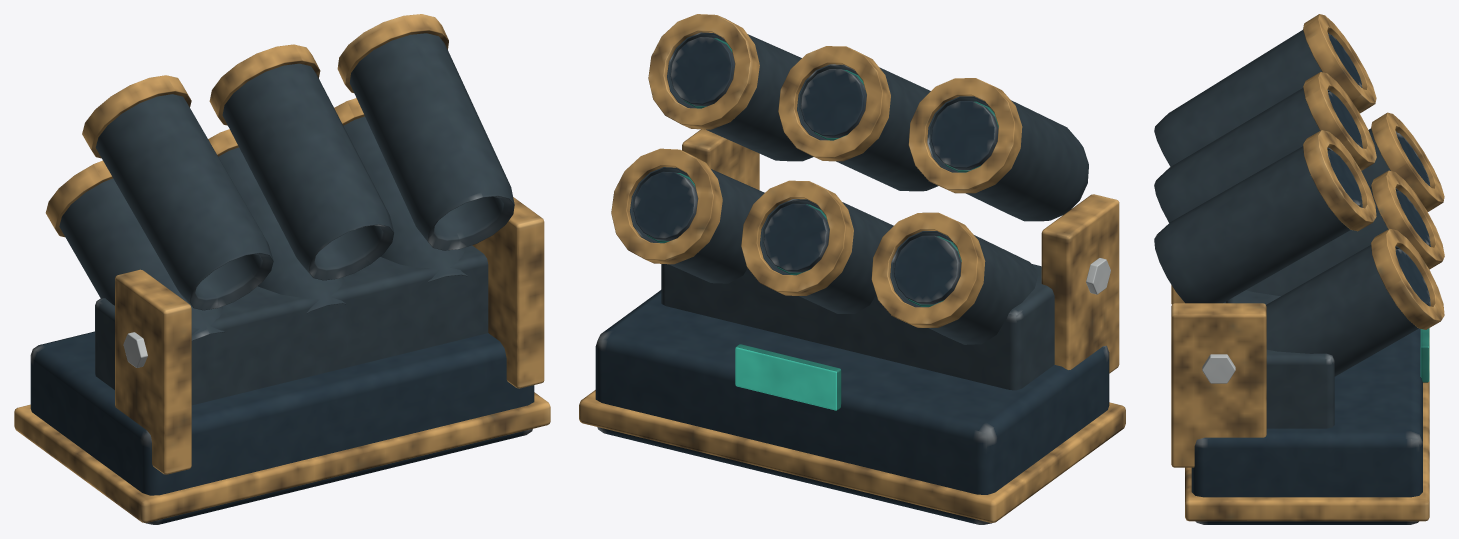
The model's file is smoke_launcher.glb.
3 renders of one model, left to right at view 1: azimuth 30°, elevation 25°; view 2: azimuth 150°, elevation 25°; view 3: azimuth 270°, elevation 25°, orthographic. The views are drawn at different scales.
Parts seen in each view (by area): view 1: v4_smoke_launcher__base, v4_smoke_launcher__bank_support, v4_smoke_launcher__launch_tube_5, v4_smoke_launcher__launch_tube_4, v4_smoke_launcher__launch_tube_3, v4_smoke_launcher__base_trim, v4_smoke_launcher__side_bracket_neg0p28, v4_smoke_launcher__side_bracket_0p28, v4_smoke_launcher__launch_tube_0, v4_smoke_launcher__launch_tube_2, v4_smoke_launcher__launch_tube_1, v4_smoke_launcher__tube_rim_4 (+4 smaller); view 2: v4_smoke_launcher__base, v4_smoke_launcher__bank_support, v4_smoke_launcher__base_trim, v4_smoke_launcher__side_bracket_neg0p28, v4_smoke_launcher__launch_tube_3, v4_smoke_launcher__tube_rim_3, v4_smoke_launcher__tube_rim_4, v4_smoke_launcher__tube_rim_5, v4_smoke_launcher__tube_rim_2, v4_smoke_launcher__tube_rim_1, v4_smoke_launcher__tube_rim_0, v4_smoke_launcher__launch_tube_5 (+13 smaller); view 3: v4_smoke_launcher__base, v4_smoke_launcher__launch_tube_5, v4_smoke_launcher__side_bracket_0p28, v4_smoke_launcher__launch_tube_2, v4_smoke_launcher__launch_tube_4, v4_smoke_launcher__launch_tube_3, v4_smoke_launcher__base_trim, v4_smoke_launcher__bank_support, v4_smoke_launcher__tube_rim_5, v4_smoke_launcher__tube_rim_2, v4_smoke_launcher__launch_tube_1, v4_smoke_launcher__tube_rim_3 (+12 smaller).
Boxes of the visible parts, x1,y1,x2,y2 form: v4_smoke_launcher__base: (30, 331, 534, 524); v4_smoke_launcher__bank_support: (95, 245, 488, 405); v4_smoke_launcher__launch_tube_5: (349, 33, 514, 250); v4_smoke_launcher__launch_tube_4: (222, 63, 394, 280); v4_smoke_launcher__launch_tube_3: (95, 94, 273, 310); v4_smoke_launcher__base_trim: (14, 392, 550, 522); v4_smoke_launcher__side_bracket_neg0p28: (115, 269, 191, 474); v4_smoke_launcher__side_bracket_0p28: (472, 197, 544, 388); v4_smoke_launcher__launch_tube_0: (59, 178, 224, 340); v4_smoke_launcher__launch_tube_2: (343, 116, 467, 282); v4_smoke_launcher__launch_tube_1: (218, 147, 345, 313); v4_smoke_launcher__tube_rim_4: (209, 44, 320, 125); v4_smoke_launcher__base: (595, 290, 1109, 524); v4_smoke_launcher__bank_support: (661, 264, 1054, 390); v4_smoke_launcher__base_trim: (579, 390, 1125, 522); v4_smoke_launcher__side_bracket_neg0p28: (1041, 194, 1119, 373); v4_smoke_launcher__launch_tube_3: (927, 96, 1088, 221); v4_smoke_launcher__tube_rim_3: (908, 78, 1022, 193); v4_smoke_launcher__tube_rim_4: (778, 46, 890, 161); v4_smoke_launcher__tube_rim_5: (648, 14, 759, 129); v4_smoke_launcher__tube_rim_2: (611, 148, 722, 264); v4_smoke_launcher__tube_rim_1: (741, 180, 853, 295); v4_smoke_launcher__tube_rim_0: (871, 212, 985, 327); v4_smoke_launcher__launch_tube_5: (667, 32, 813, 161); v4_smoke_launcher__base: (1191, 302, 1422, 524); v4_smoke_launcher__launch_tube_5: (1154, 146, 1362, 303); v4_smoke_launcher__side_bracket_0p28: (1171, 303, 1266, 467); v4_smoke_launcher__launch_tube_2: (1266, 245, 1430, 376); v4_smoke_launcher__launch_tube_4: (1154, 88, 1362, 222); v4_smoke_launcher__launch_tube_3: (1154, 30, 1362, 166); v4_smoke_launcher__base_trim: (1185, 328, 1429, 521); v4_smoke_launcher__bank_support: (1225, 290, 1334, 428); v4_smoke_launcher__tube_rim_5: (1303, 130, 1376, 231); v4_smoke_launcher__tube_rim_2: (1371, 228, 1444, 329); v4_smoke_launcher__launch_tube_1: (1246, 186, 1430, 296); v4_smoke_launcher__tube_rim_3: (1303, 14, 1376, 113).
Bounding box in the file's own units: 0.65 × 0.5892 × 0.4275.
2 materials, 2 textured.
